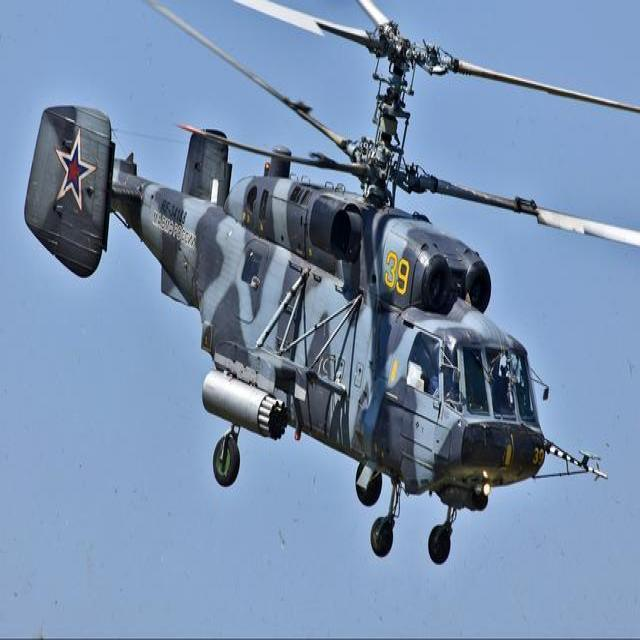MIL_HELO: (14, 0, 640, 562)
